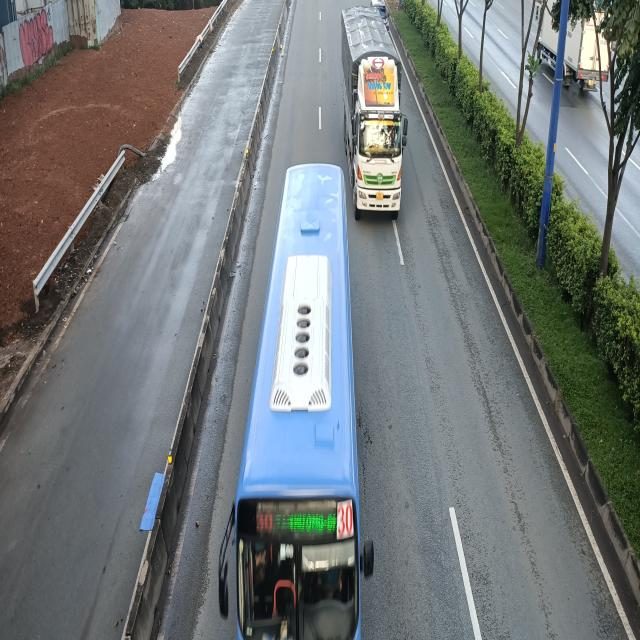coach: (217, 161, 371, 640)
truck: (340, 2, 407, 215)
